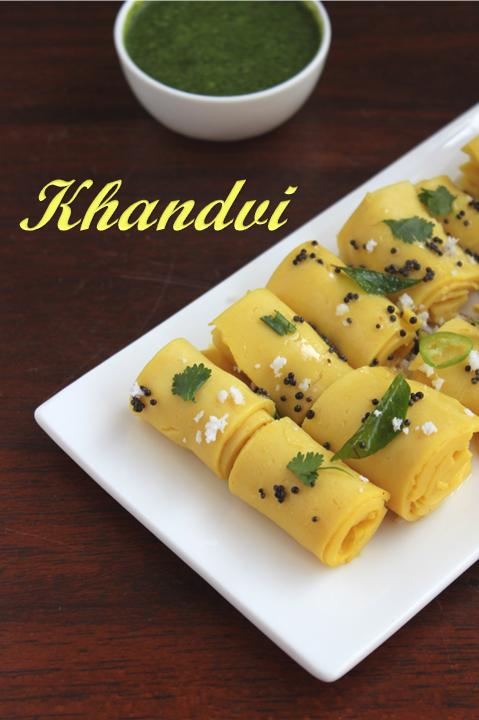khandvi: (150, 326, 479, 526)
